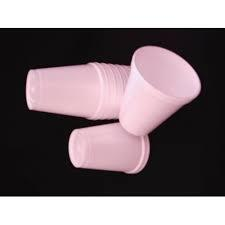Plastic cup: (17, 38, 212, 177)
